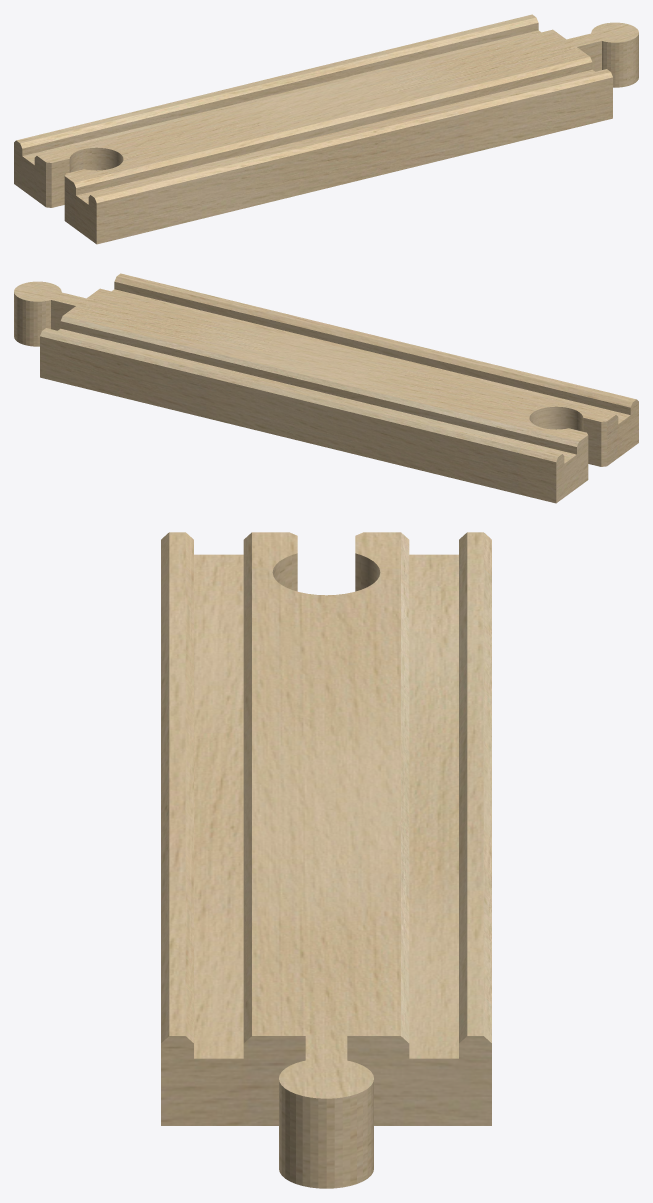
3 views of the same model, one above another, from view 1: azimuth 30°, elevation 25°; view 2: azimuth 150°, elevation 25°; view 3: azimuth 270°, elevation 25° (orthographic). The views are drawn at different scales.
Visible parts, largest first — view 1: SketchUp; view 2: SketchUp; view 3: SketchUp.
Boxes of the visible parts, x1,y1,x2,y2 form: SketchUp: (14,14,638,244); SketchUp: (14,273,638,503); SketchUp: (161,532,491,1188).
Bounding box in the file's own units: 6.37 × 1.57 × 0.4724.
Materials: 1 (1 with a texture image).
